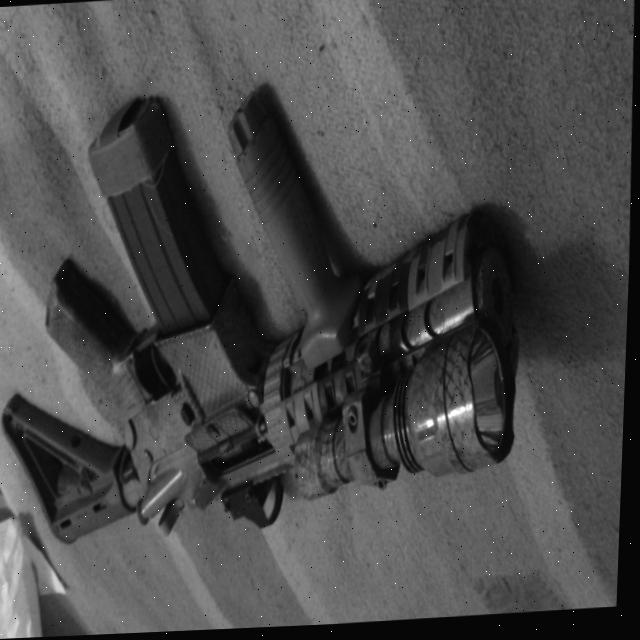firearm: (0, 74, 535, 548)
